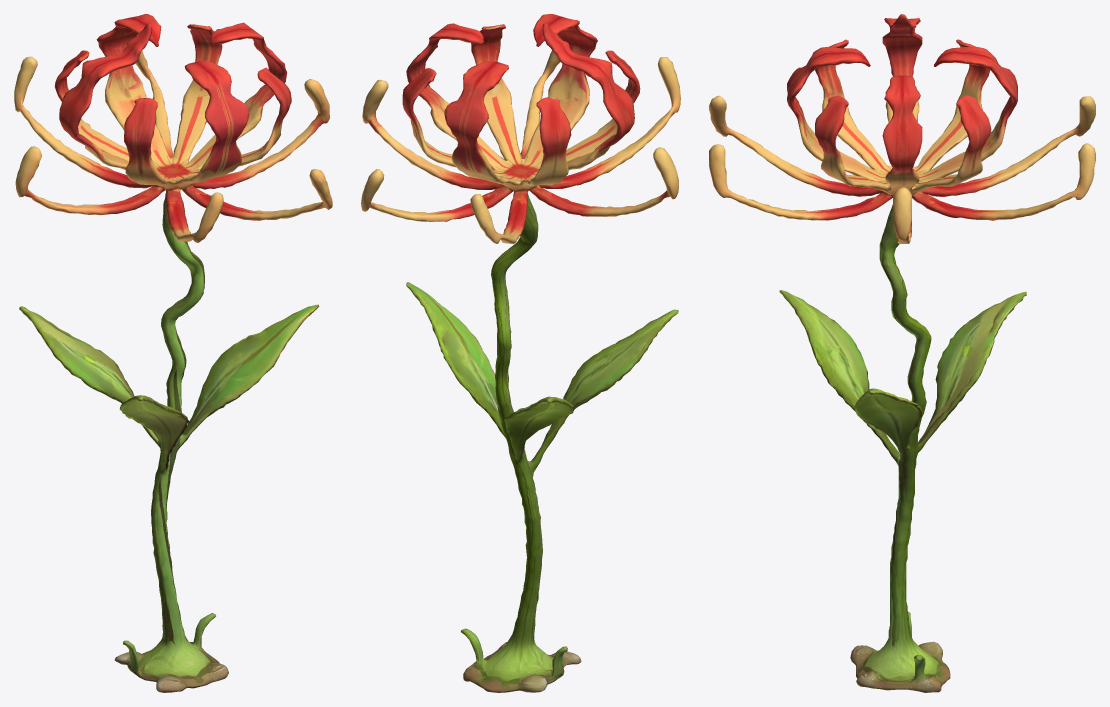
File: Meshy_AI_Red_Spider_Lily_0705131024_texture.fbx
3 views of the same model, side by side, from view 1: azimuth 30°, elevation 25°; view 2: azimuth 150°, elevation 25°; view 3: azimuth 270°, elevation 25° (orthographic).
Visible parts, largest first — view 1: Mesh_0; view 2: Mesh_0; view 3: Mesh_0.
Boxes of the visible parts, x1=… form: Mesh_0: x1=14, y1=14, x2=332, y2=692; Mesh_0: x1=361, y1=14, x2=680, y2=692; Mesh_0: x1=709, y1=14, x2=1095, y2=692.
Bounding box in the file's own units: 94.32 × 191 × 103.
Materials: 1 (1 with a texture image).
